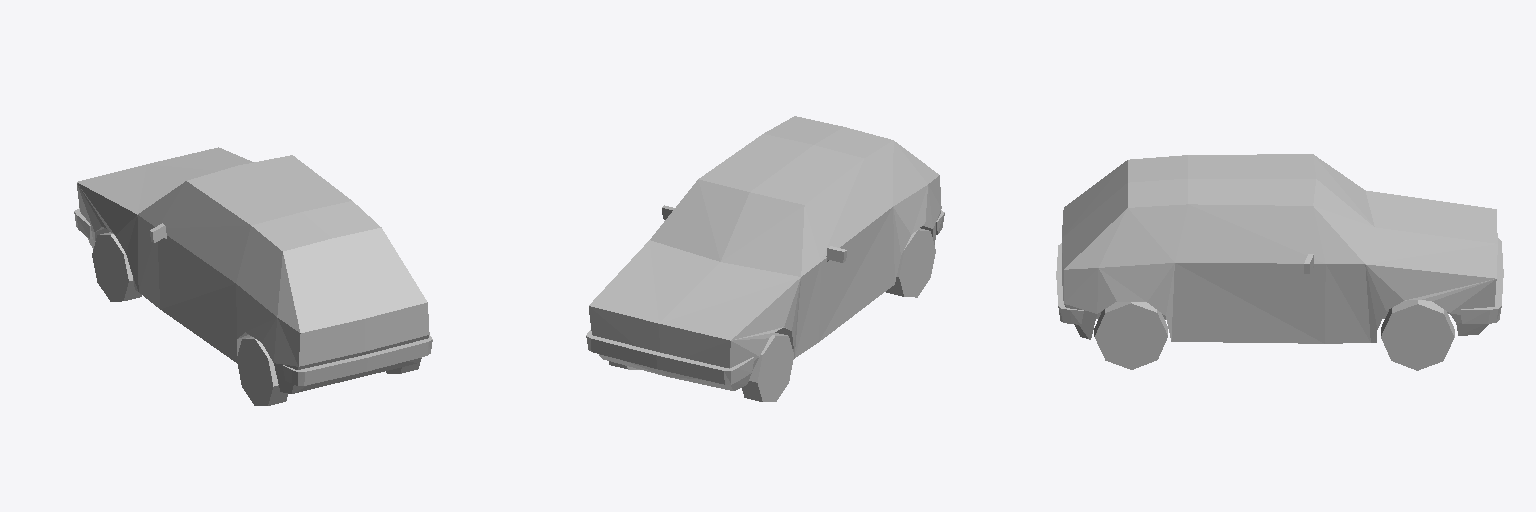
The model's file is Car3_o3.obj.
3 views of the same model, side by side, from view 1: azimuth 30°, elevation 25°; view 2: azimuth 150°, elevation 25°; view 3: azimuth 270°, elevation 25° (orthographic).
Visible parts, largest first — view 1: Car3; view 2: Car3; view 3: Car3.
Boxes of the visible parts, box(x1,y1,x2,y2) form: Car3: box(74, 147, 432, 405); Car3: box(586, 116, 944, 401); Car3: box(1056, 154, 1503, 370).
Bounding box in the file's own units: 1.59 × 1.29 × 3.37.